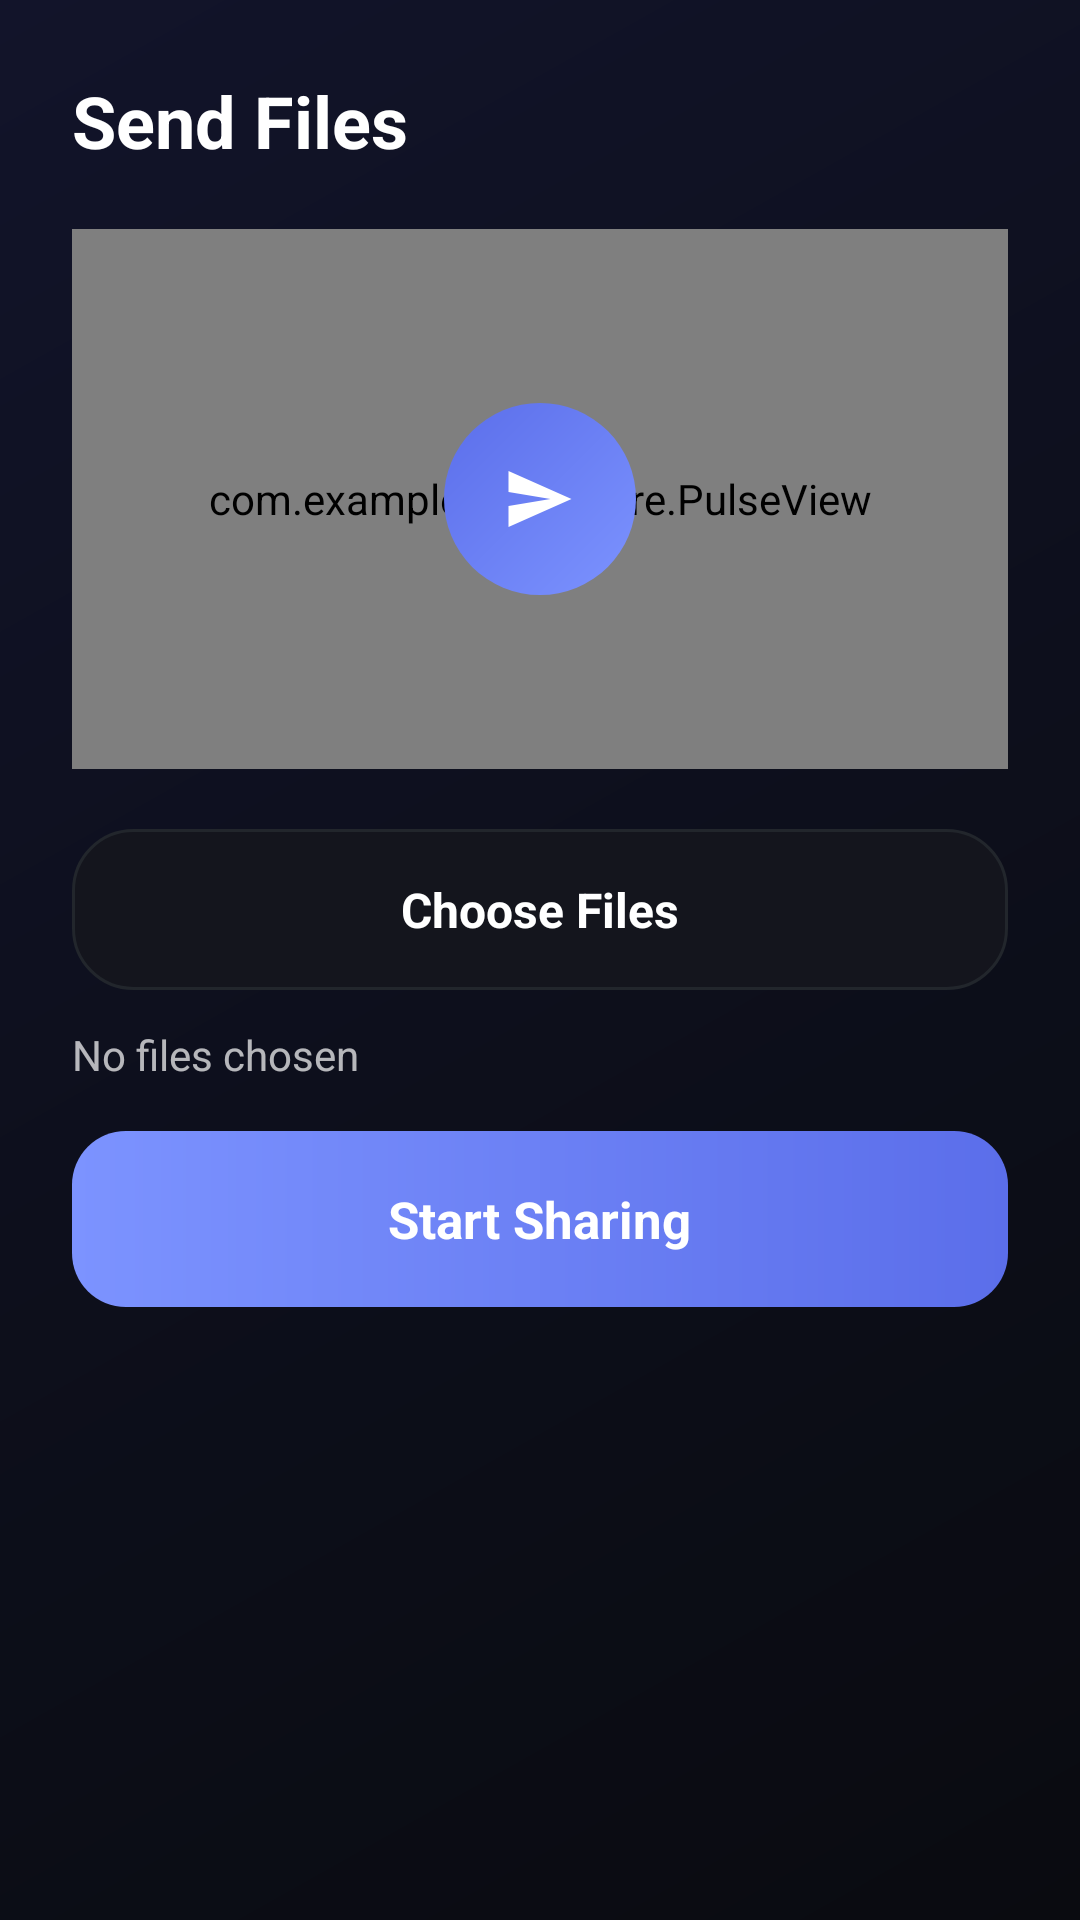

Locate icon controls on the screen. Image size 1080w x 1920h, boxes as (x1, y1, x2, y2).
send: (444, 403, 636, 595)
